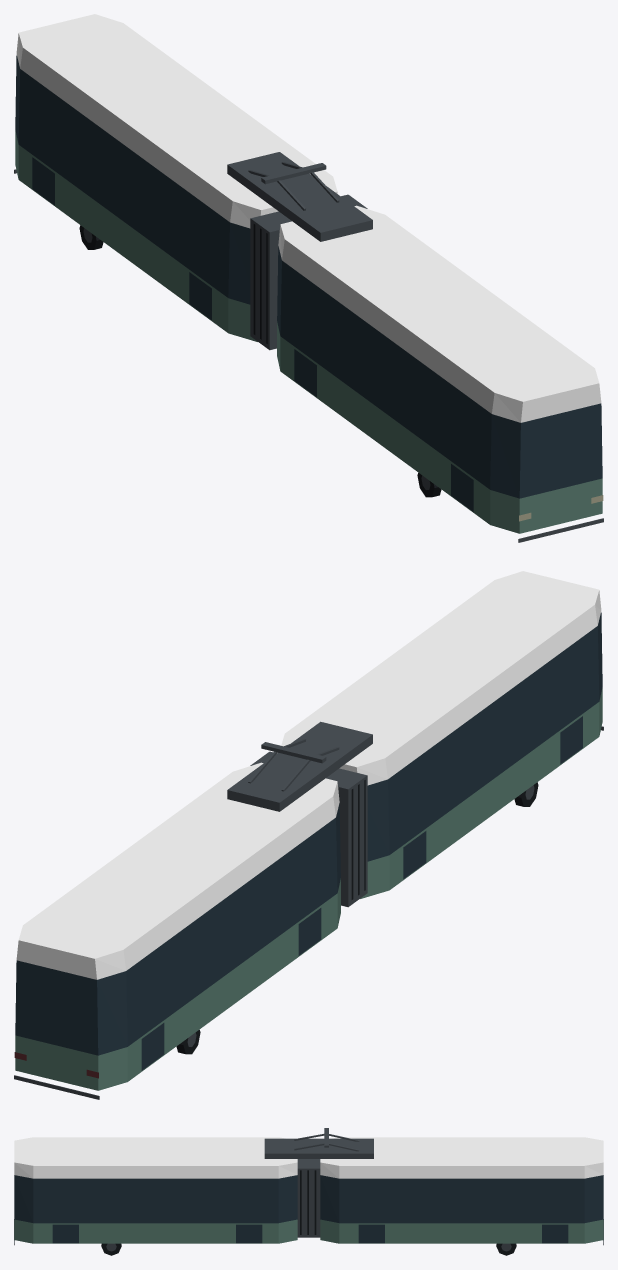
The model's file is pdx-streetcar.glb.
The picture shows the model from 3 angles, top to bottom: view 1: azimuth 30°, elevation 25°; view 2: azimuth 150°, elevation 25°; view 3: azimuth 270°, elevation 25°; orthographic projection. The views are drawn at different scales.
Parts seen in each view (by area): view 1: vehicle_body; view 2: vehicle_body; view 3: vehicle_body.
Part boxes in pixels (box(x1,y1,x2,y2)): vehicle_body: box(14, 14, 603, 542); vehicle_body: box(14, 571, 603, 1099); vehicle_body: box(14, 1128, 603, 1255).
Size of the model in its own units: 2.5 by 3.9 by 20.02.
